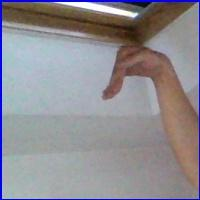del: (97, 38, 178, 105)
